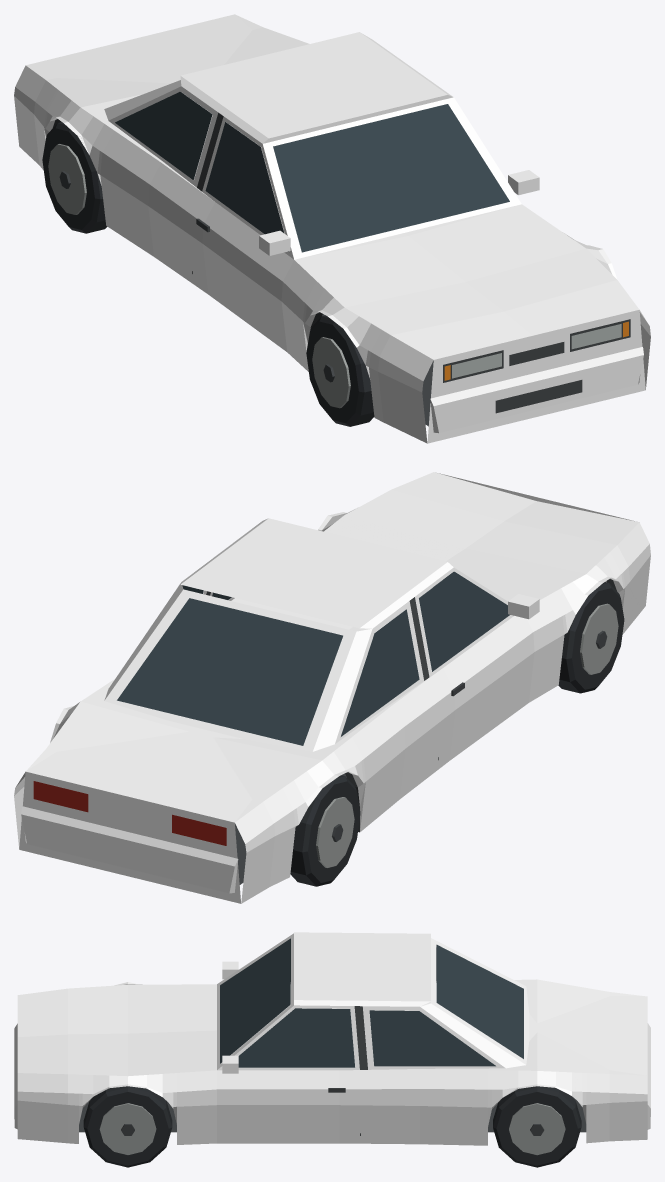
The model's file is ashby_redrock.glb.
3 renders of one model, top to bottom at view 1: azimuth 30°, elevation 25°; view 2: azimuth 150°, elevation 25°; view 3: azimuth 270°, elevation 25°, orthographic. The views are drawn at different scales.
Parts seen in each view (by area): view 1: ashby_redrock; view 2: ashby_redrock; view 3: ashby_redrock.
Boxes of the visible parts, x1,y1,x2,y2 form: ashby_redrock: (14, 14, 650, 443); ashby_redrock: (14, 472, 650, 903); ashby_redrock: (14, 932, 650, 1167).
Bounding box in the file's own units: 1.82 × 1.24 × 4.7.
Materials: 8 (1 with a texture image).
